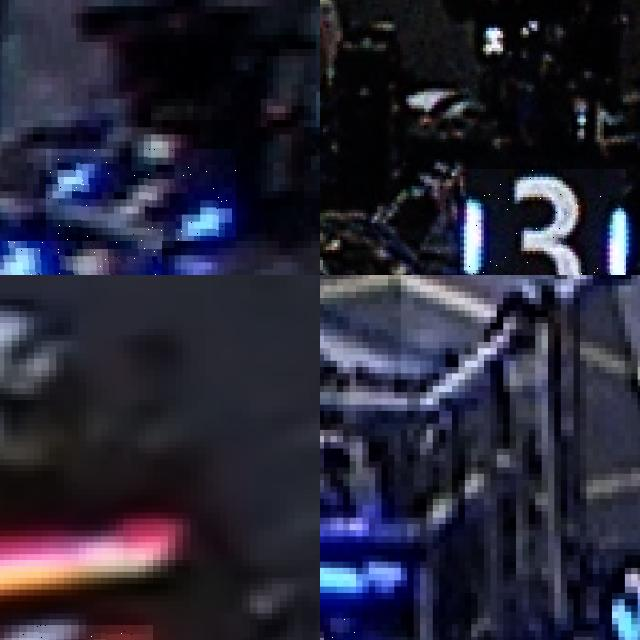B1: (46, 149, 236, 241), (0, 241, 162, 275)
B3: (460, 169, 625, 275)
